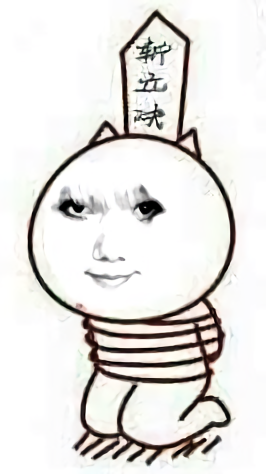dragon: (56, 190, 168, 287)
